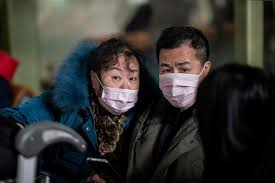mask: (159, 75, 202, 104), (101, 86, 141, 108)
